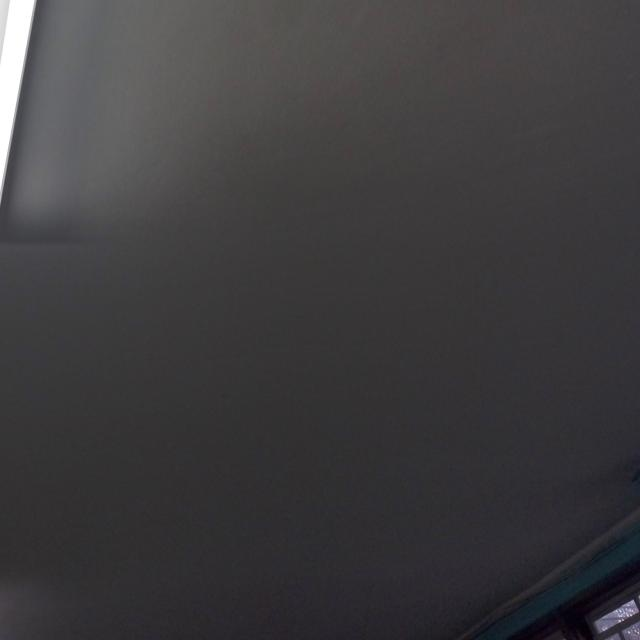fluorescent tube: (0, 0, 230, 308)
